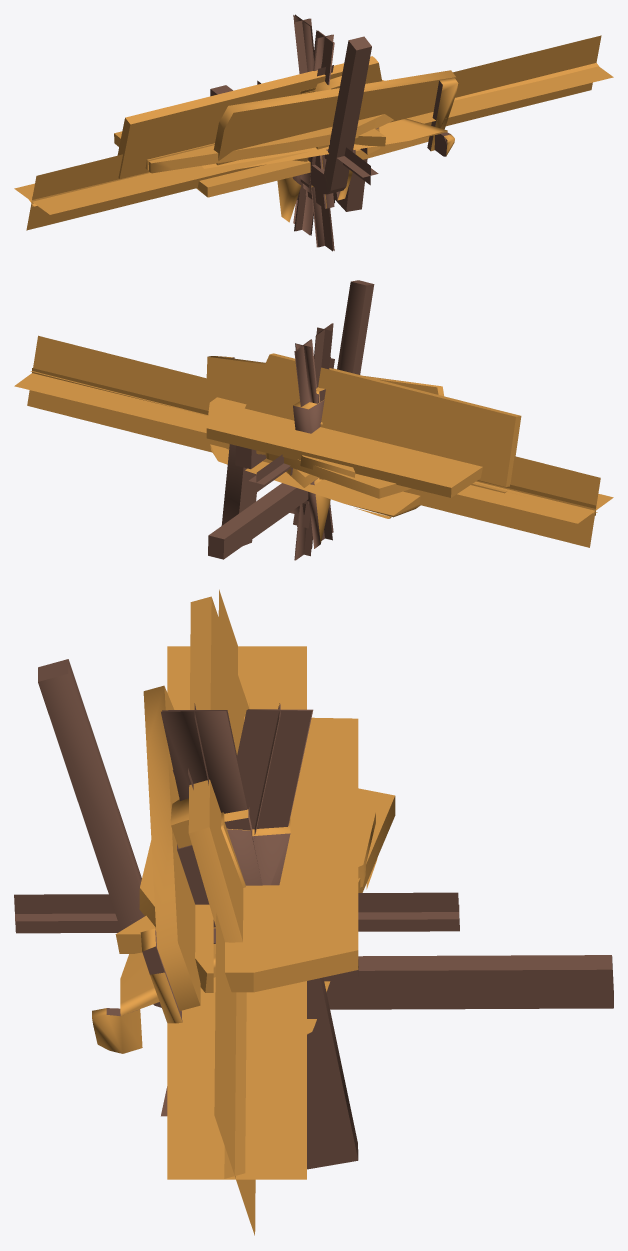
The model's file is node_chunks.glb.
The picture shows the model from 3 angles, top to bottom: view 1: azimuth 30°, elevation 25°; view 2: azimuth 150°, elevation 25°; view 3: azimuth 270°, elevation 25°; orthographic projection. The views are drawn at different scales.
Parts seen in each view (by area): view 1: Node.002_cell.007, Node.002_cell.013, Node.028, Node.022, Node.002_cell.020, Node.002_cell.005, Node.017, Node.005, Node.002_cell.017, Node.002_cell.006, Node.031, Node.091 (+8 smaller); view 2: Node.023, Node.002_cell.013, Node.002_cell.020, Node.002_cell.005, Node.002_cell.007, Node.005, Node.017, Node.002_cell.017, Node.002_cell.006, Node.006, Node.002_cell, Node.082 (+6 smaller); view 3: Node.002_cell.020, Node.002_cell.005, Node.005, Node.002_cell.007, Node.002_cell.013, Node.095, Node.088, Node.017, Node.002_cell.017, Node.023, Node.048, Node.031 (+5 smaller).
Part boxes in pixels (<box>): Node.002_cell.007: <box>196,70,458,197</box>; Node.002_cell.013: <box>117,56,381,179</box>; Node.028: <box>34,35,601,215</box>; Node.022: <box>26,37,597,230</box>; Node.002_cell.020: <box>114,80,393,211</box>; Node.002_cell.005: <box>210,36,371,194</box>; Node.017: <box>14,155,290,214</box>; Node.005: <box>263,66,613,161</box>; Node.002_cell.017: <box>200,118,454,168</box>; Node.002_cell.006: <box>277,76,341,222</box>; Node.031: <box>29,63,598,201</box>; Node.091: <box>295,18,318,247</box>; Node.023: <box>27,335,600,547</box>; Node.002_cell.013: <box>226,353,521,493</box>; Node.002_cell.020: <box>206,397,482,545</box>; Node.002_cell.005: <box>208,280,374,559</box>; Node.002_cell.007: <box>206,356,443,518</box>; Node.005: <box>14,373,207,432</box>; Node.017: <box>457,481,613,523</box>; Node.002_cell.017: <box>265,453,410,498</box>; Node.002_cell.006: <box>286,468,330,548</box>; Node.006: <box>32,368,208,414</box>; Node.002_cell: <box>293,400,324,433</box>; Node.082: <box>295,340,317,406</box>; Node.002_cell.020: <box>139,716,358,1169</box>; Node.002_cell.005: <box>38,659,613,1009</box>; Node.005: <box>167,977,306,1179</box>; Node.002_cell.007: <box>140,685,377,1034</box>; Node.002_cell.013: <box>177,596,249,942</box>; Node.095: <box>236,710,311,829</box>; Node.088: <box>161,711,247,813</box>; Node.017: <box>167,646,306,709</box>; Node.002_cell.017: <box>92,788,395,1053</box>; Node.023: <box>214,589,255,1235</box>; Node.048: <box>14,894,459,932</box>; Node.031: <box>224,703,249,1178</box>.
Bounding box in the file's own units: 2.5 × 0.9817 × 1.19.
